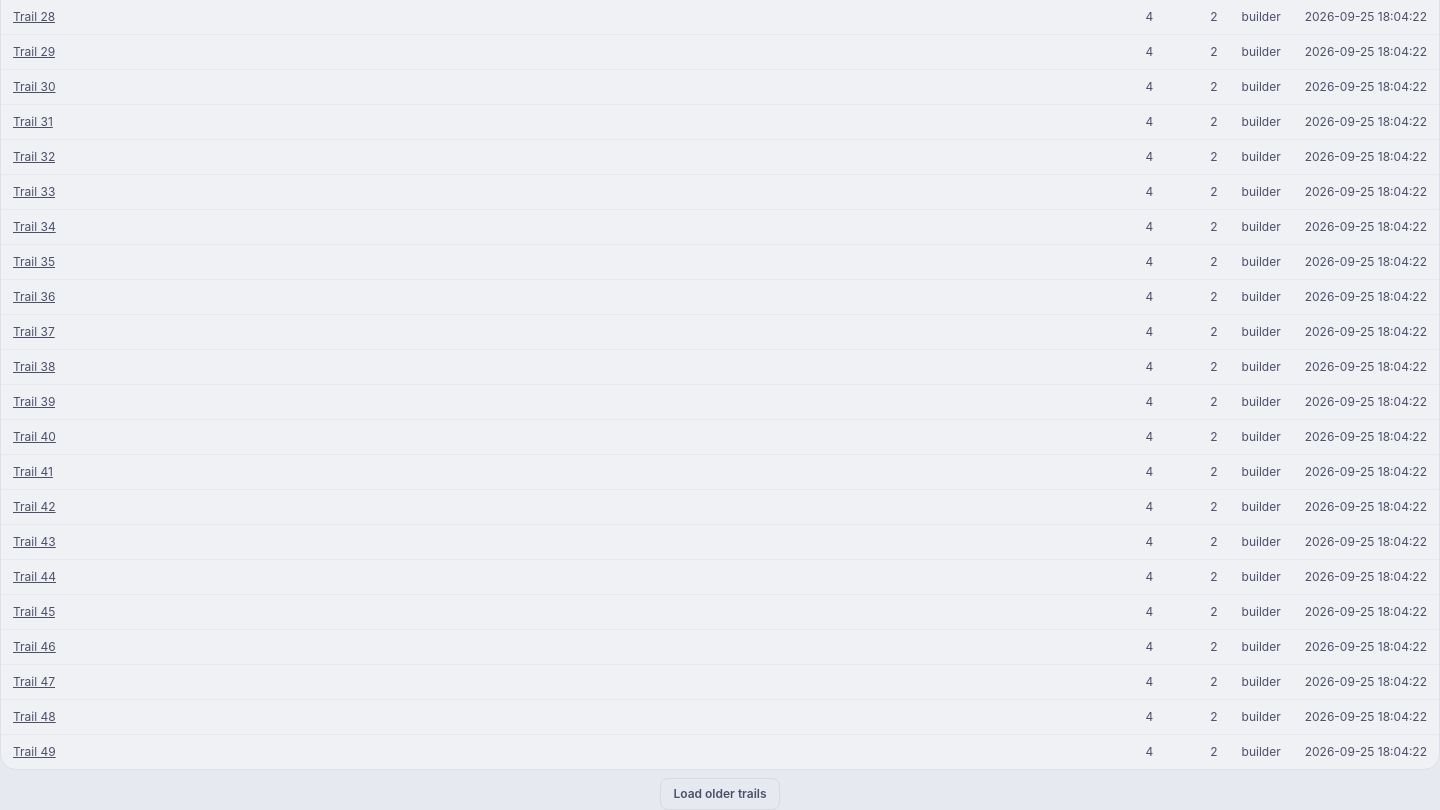
Scenario: traces route › appends to the list on one control, and drops it once the server runs dry
This screenshot has width=1440, height=810.
(page scrolled)
Expected: the link "Trail 49" is shown, x1=13 y1=743 x2=56 y2=761
Click the button "Load older trails".
click(720, 794)  # box x1=660 y1=778 x2=780 y2=809
(page scrolled)
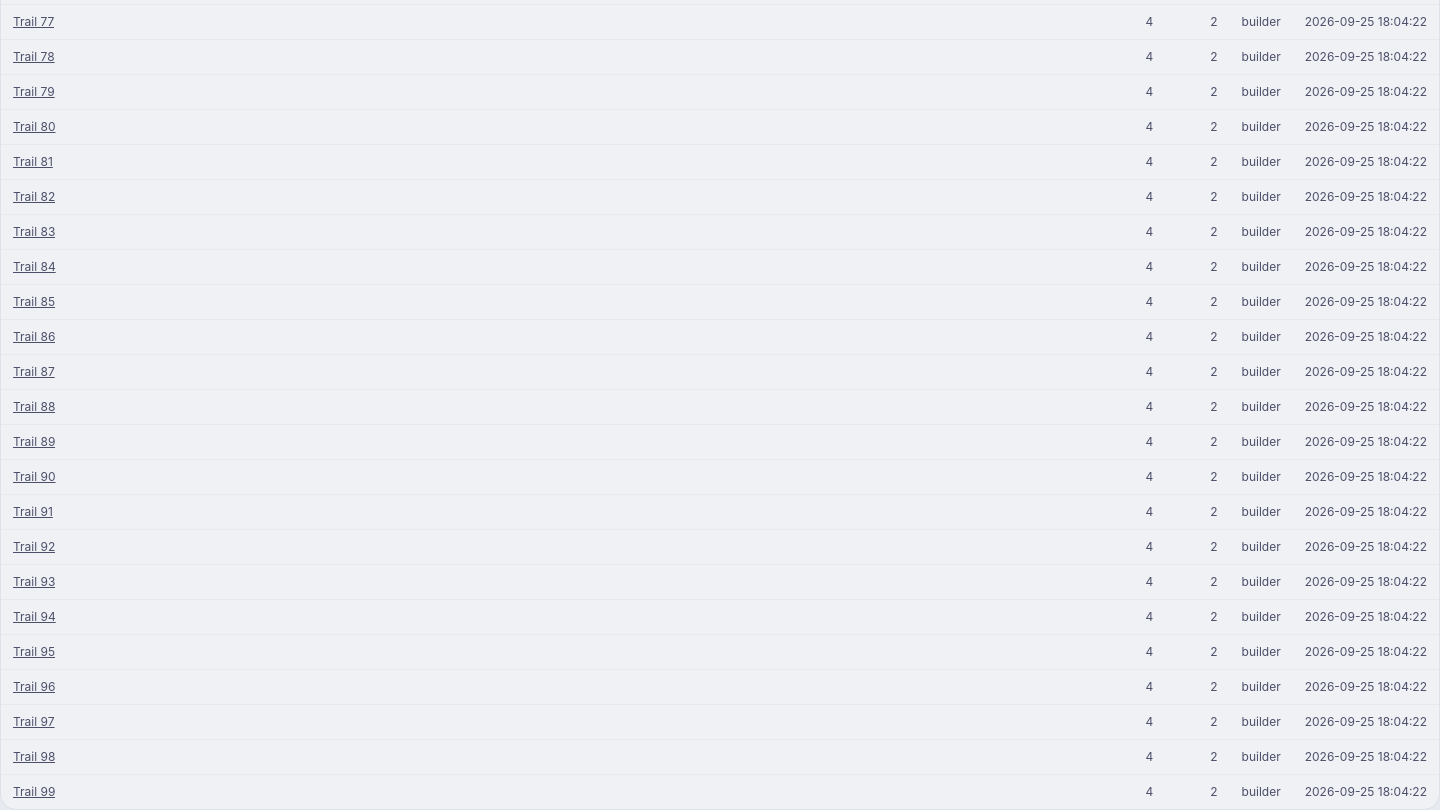
Now the link "Trail 99" is shown, box x1=13 y1=783 x2=55 y2=801
Now the button "Load older trails" is gone
